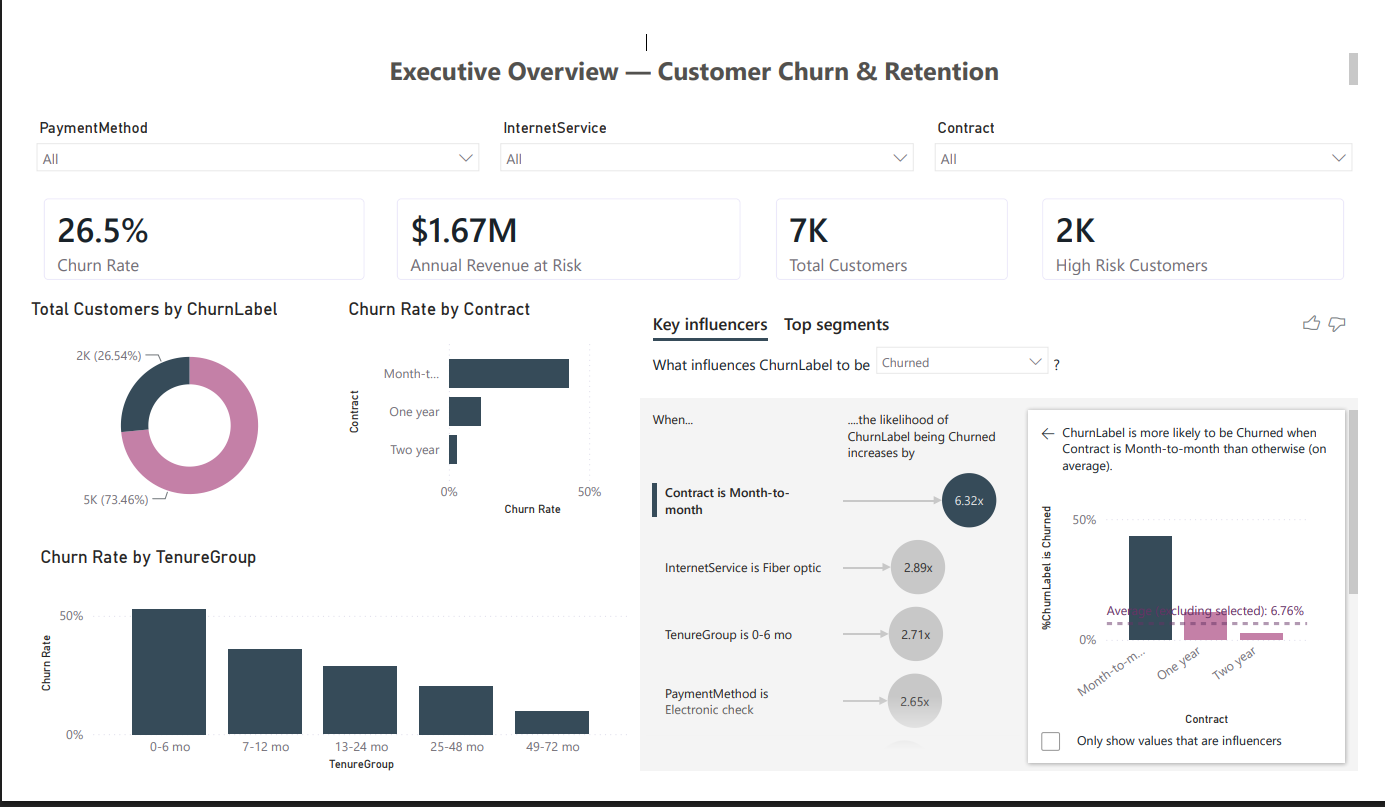

The dashboard page shown, as its layout file describes it:
{"tool":"powerbi","page":{"name":"Executive Overview","canvas":[1280,720],"ordinal":0},"visuals":[{"type":"cardVisual","fields":{"Data":["Customers.Churn Rate"]},"box":[0,149.6,341.7,112.5],"z":0},{"type":"cardVisual","fields":{"Data":["Customers.Total Customers"]},"box":[701.2,149.6,256.6,112.5],"z":1000},{"type":"cardVisual","fields":{"Data":["Customers.Annual Revenue at Risk"]},"box":[337.5,150,363.6,112.5],"z":2000},{"type":"cardVisual","fields":{"Data":["Customers.High Risk Customers"]},"box":[956.4,149.6,323.8,112.5],"z":3000},{"type":"donutChart","fields":{"Category":["Customers.ChurnLabel"],"Y":["Customers.Total Customers"]},"box":[0,262.5,312.5,213.8],"z":4000},{"type":"clusteredBarChart","fields":{"Category":["Customers.Contract"],"Y":["Customers.Churn Rate"]},"box":[303.8,262.5,278.8,213.8],"z":5000},{"type":"clusteredColumnChart","fields":{"Category":["Customers.TenureGroup"],"Y":["Customers.Churn Rate"]},"box":[8.8,500,573.8,220],"z":6000},{"type":"slicer","fields":{"Values":["Customers.PaymentMethod"]},"box":[0,86.2,443.8,62.5],"z":7000},{"type":"slicer","fields":{"Values":["Customers.Contract"]},"box":[860,86.2,420,62.5],"z":8000},{"type":"slicer","fields":{"Values":["Customers.InternetService"]},"box":[443.8,86.2,416.2,62.5],"z":9000},{"type":"textbox","box":[8.2,23.3,1272,41.2],"z":10000},{"type":"keyDriversVisual","fields":{"ExplainBy":["Customers.Contract","Customers.InternetService","Customers.PaymentMethod","Customers.TenureGroup","Sum(Customers.NumAddonServices)","Customers.SeniorCitizen_Label"],"Target":["Customers.ChurnLabel"]},"box":[582.5,262.5,697.5,457.5],"z":11000}]}

Visuals, with their boxes on the page's 1280x720 design canvas (x1, y1, x2, y2). These are canvas units, not pixel positions in the 1385x807 screenshot, which may show the page scaled, cropped or inside an application window:
cardVisual - Customers.Churn Rate: Rect(0, 150, 342, 262)
cardVisual - Customers.Total Customers: Rect(701, 150, 958, 262)
cardVisual - Customers.Annual Revenue at Risk: Rect(338, 150, 701, 262)
cardVisual - Customers.High Risk Customers: Rect(956, 150, 1280, 262)
donutChart - Customers.ChurnLabel x Customers.Total Customers: Rect(0, 262, 312, 476)
clusteredBarChart - Customers.Contract x Customers.Churn Rate: Rect(304, 262, 583, 476)
clusteredColumnChart - Customers.TenureGroup x Customers.Churn Rate: Rect(9, 500, 583, 720)
slicer - Customers.PaymentMethod: Rect(0, 86, 444, 149)
slicer - Customers.Contract: Rect(860, 86, 1280, 149)
slicer - Customers.InternetService: Rect(444, 86, 860, 149)
textbox: Rect(8, 23, 1280, 64)
keyDriversVisual - Customers.Contract x Customers.InternetService: Rect(582, 262, 1280, 720)
